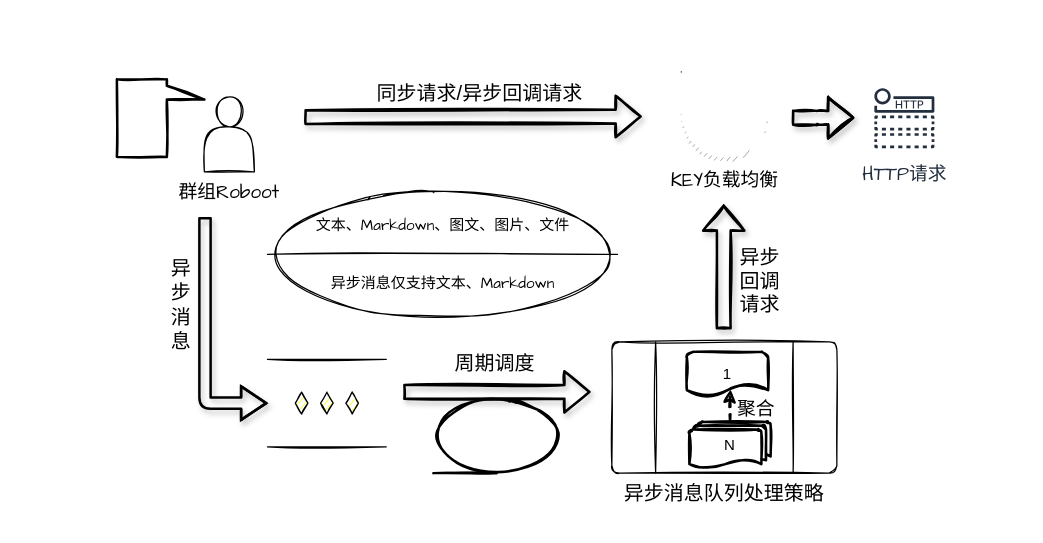
This 1043x543 diagram has some shape labels left out. The centre of each missing label's shape, as x and y in pixels:
KEY 1 KEY 2 KEY 3 ......: point (160, 118)
异步消息队列: point (326, 402)
调度线程池 执行器: point (496, 435)
